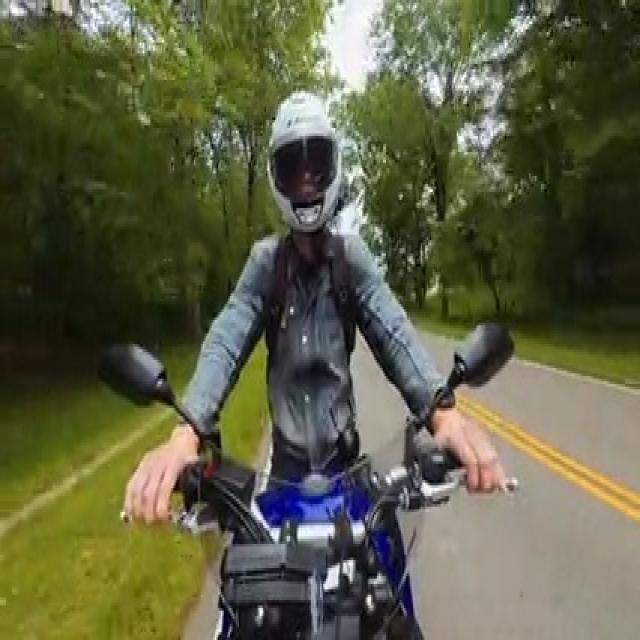Helmet_Wearer: (255, 84, 356, 257)
Person: (129, 84, 505, 530)
